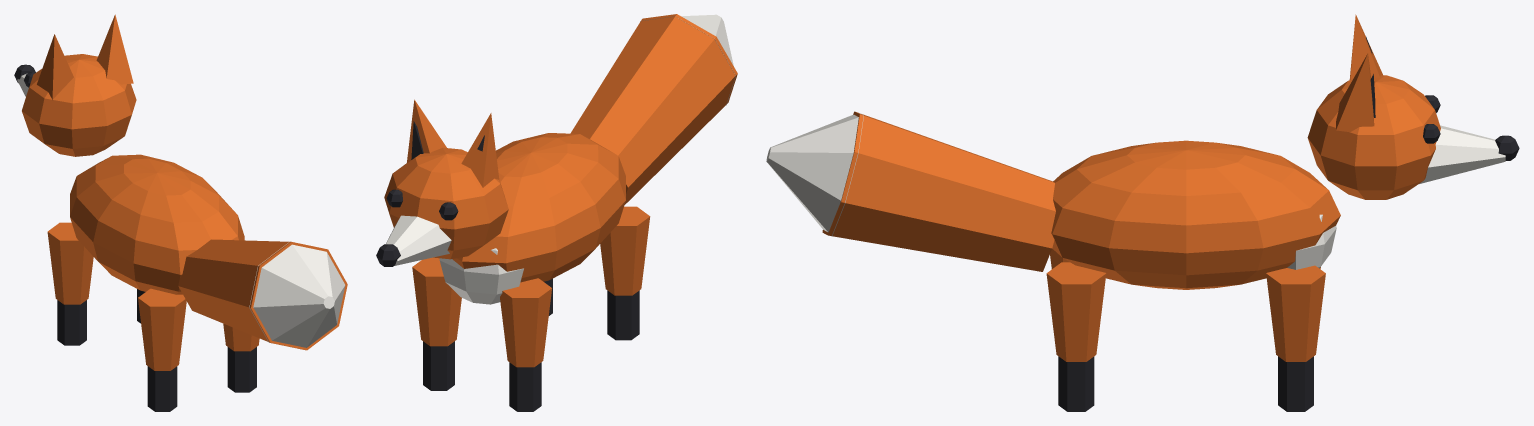
File: Fox.fbx
3 renders of one model, left to right at view 1: azimuth 30°, elevation 25°; view 2: azimuth 150°, elevation 25°; view 3: azimuth 270°, elevation 25°, orthographic. The views are drawn at different scales.
Visible parts, largest first — view 1: Fox; view 2: Fox; view 3: Fox.
Part boxes in pixels (left/top/right/bottom): Fox: left=14, top=14, right=347, bottom=411; Fox: left=376, top=14, right=737, bottom=411; Fox: left=766, top=14, right=1519, bottom=411.
Size of the model in its own units: 25.2 by 53.91 by 106.
